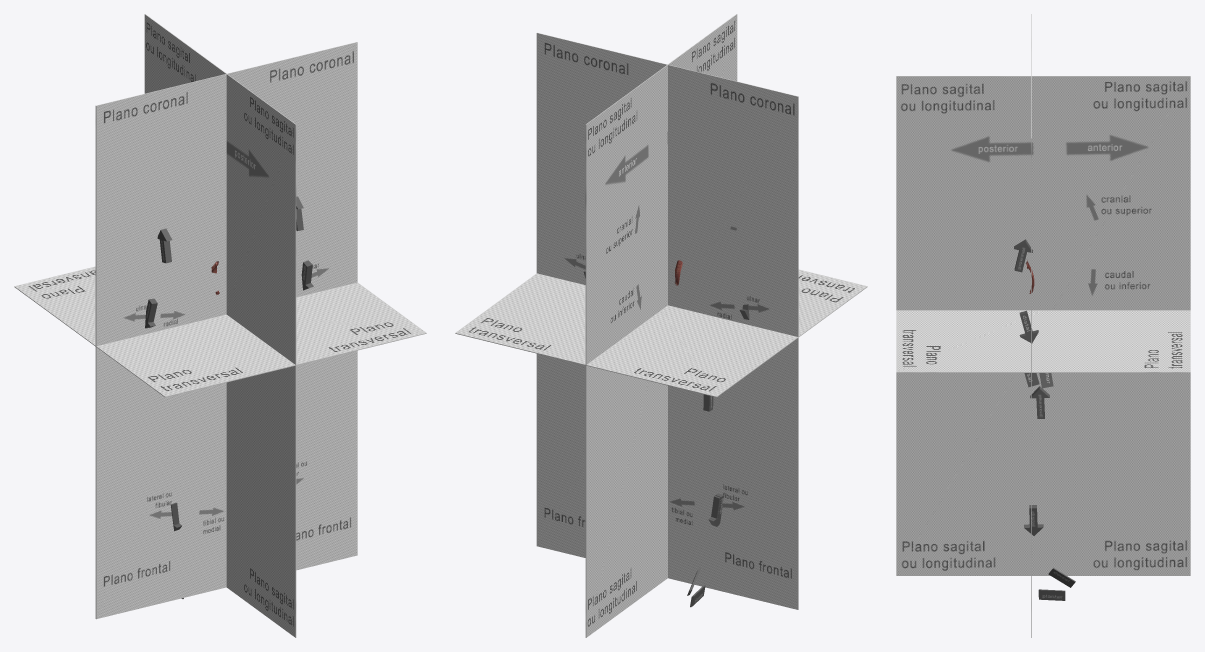
Rendered from remover.fbx.
The picture shows the model from 3 angles, left to right: view 1: azimuth 30°, elevation 25°; view 2: azimuth 150°, elevation 25°; view 3: azimuth 270°, elevation 25°; orthographic projection. The views are drawn at different scales.
Parts seen in each view (by area): view 1: plano-frontal-coronal, plano-sagital, plano-transverso; view 2: plano-frontal-coronal, plano-sagital, plano-transverso; view 3: plano-sagital, plano-transverso, plano-frontal-coronal.
Part boxes in pixels (left/top/right/bottom): plano-frontal-coronal: left=95, top=42, right=357, bottom=619; plano-sagital: left=144, top=14, right=296, bottom=637; plano-transverso: left=14, top=266, right=426, bottom=397; plano-frontal-coronal: left=536, top=32, right=798, bottom=609; plano-sagital: left=585, top=14, right=737, bottom=637; plano-transverso: left=455, top=269, right=867, bottom=397; plano-sagital: left=896, top=76, right=1190, bottom=575; plano-transverso: left=896, top=310, right=1190, bottom=372; plano-frontal-coronal: left=1031, top=14, right=1031, bottom=637.
Bounding box in the file's own units: 2.04 × 3.87 × 2.04.
Materials: 2 (2 with a texture image).
